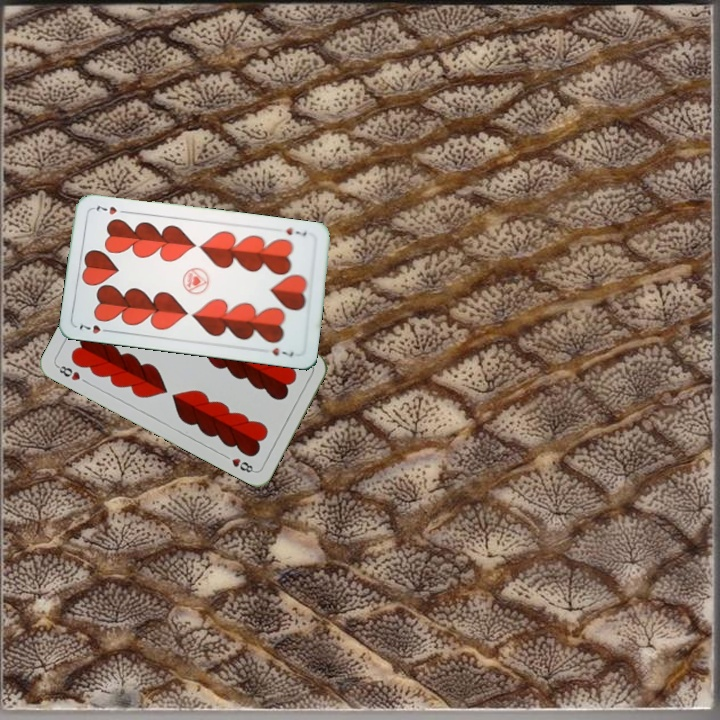H7: (75, 319, 114, 336), (282, 224, 309, 238)
H8: (53, 361, 83, 383)
